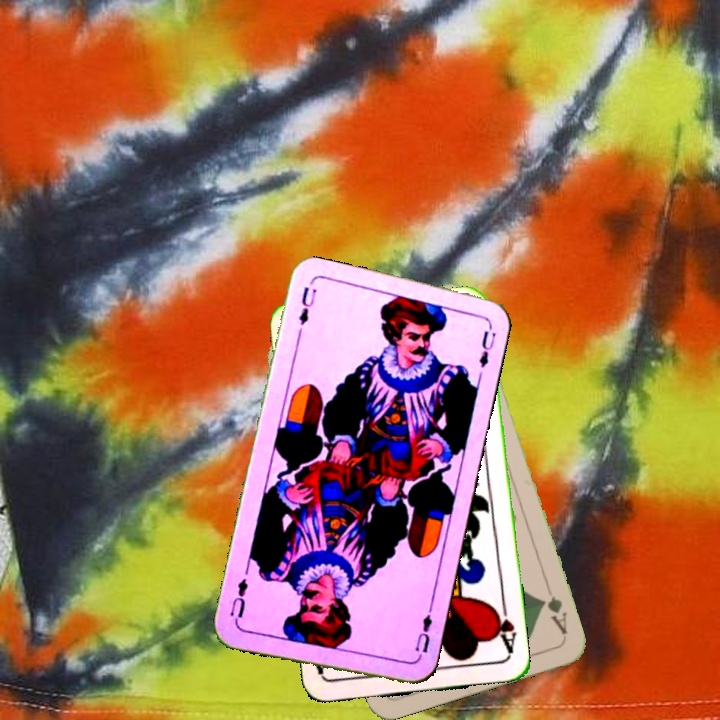EU: (411, 604, 435, 662), (294, 282, 319, 328)
GA: (537, 592, 570, 637)
HA: (489, 599, 519, 658)
